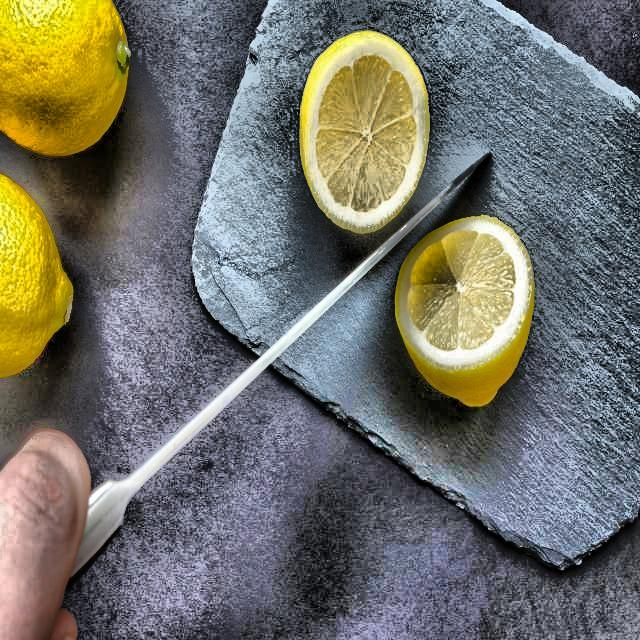knife: (44, 129, 501, 596)
